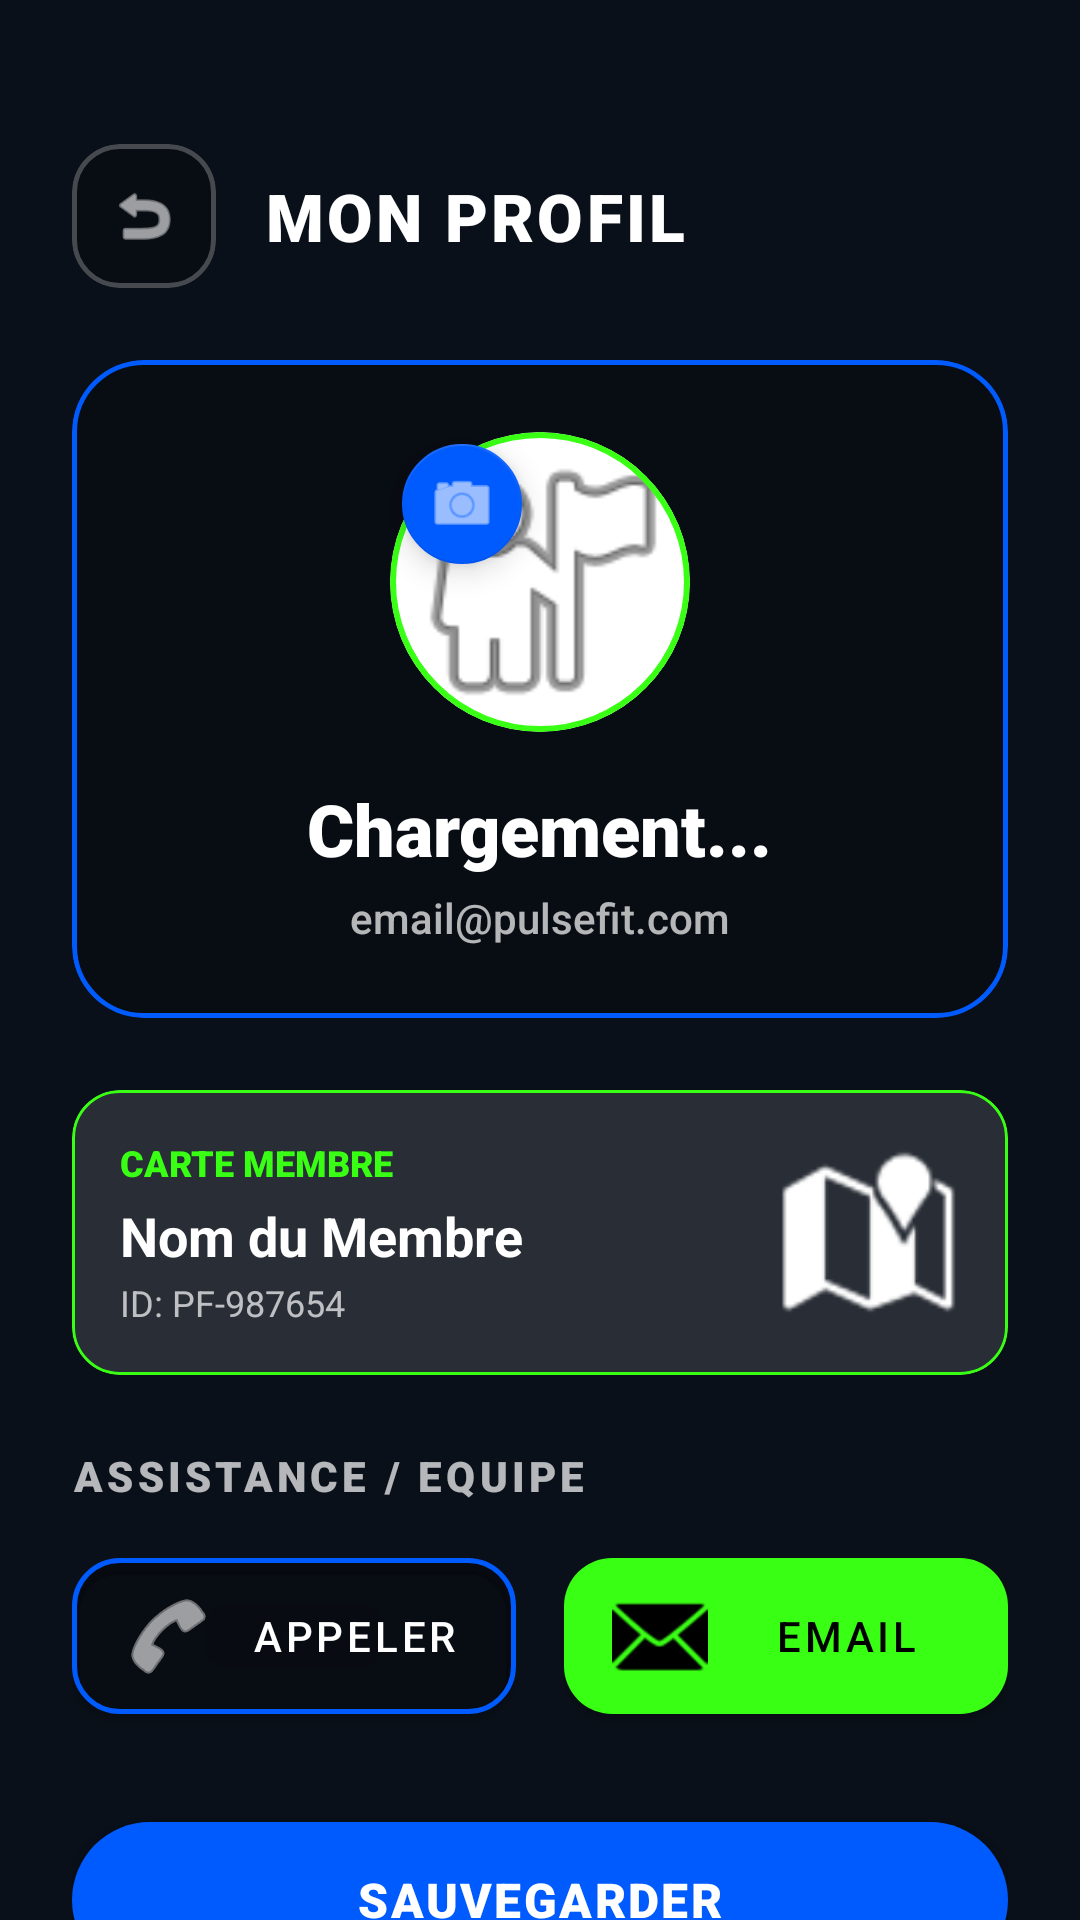

Where icons sit on this 1080 x 1920 app screen, as [left=x1, top=y1, right=x2, bottom=y2]:
map: [left=782, top=1152, right=955, bottom=1311]
revert: [left=72, top=144, right=216, bottom=288]
